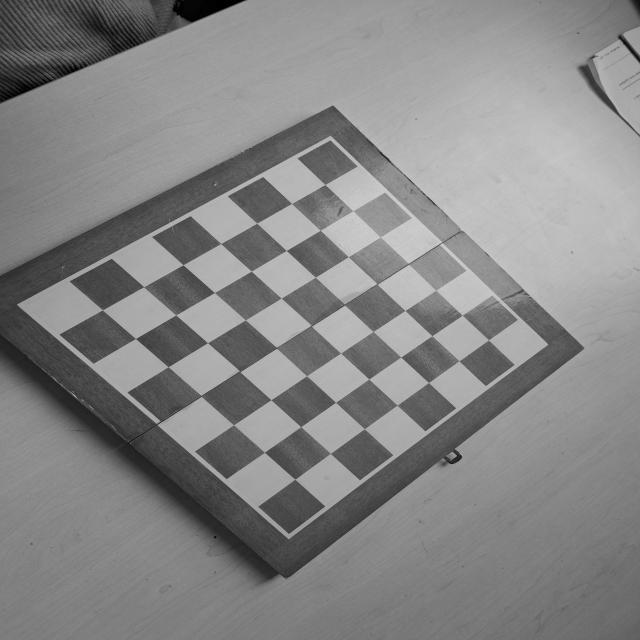chess-table-corners: (318, 132, 342, 150), (12, 298, 34, 314), (278, 526, 298, 542), (532, 336, 552, 352)
